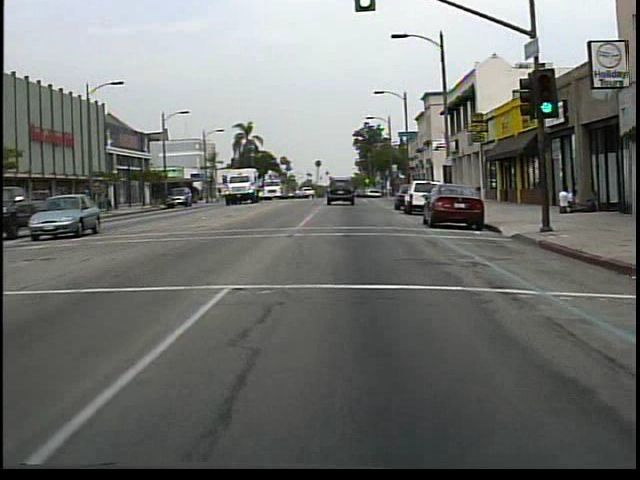person: (554, 185, 571, 215)
